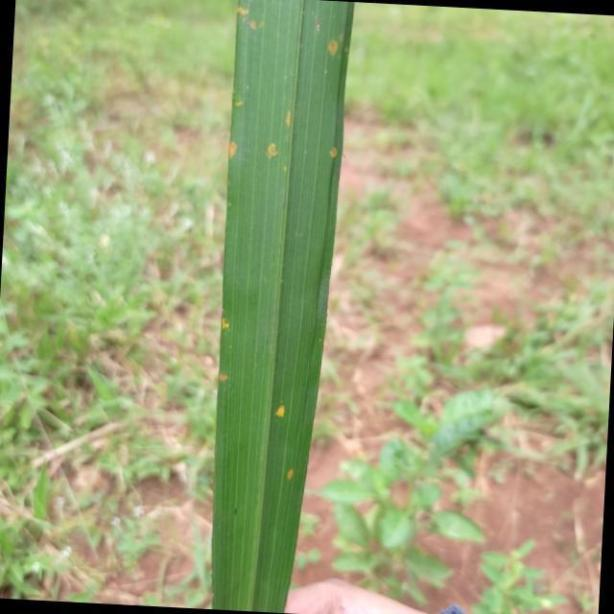Kalium: (213, 0, 358, 614)
